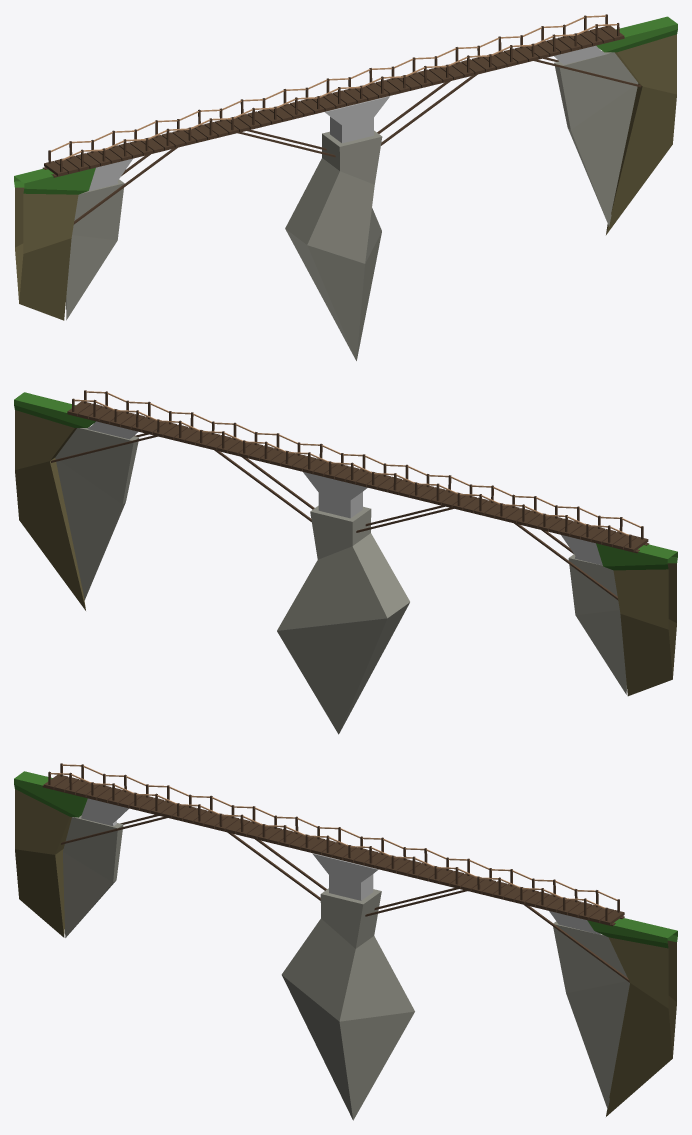
The model's file is GroundBridge.fbx.
3 renders of one model, top to bottom at view 1: azimuth 30°, elevation 25°; view 2: azimuth 150°, elevation 25°; view 3: azimuth 330°, elevation 25°, orthographic.
Parts seen in each view (by area): view 1: Boulders, Grass, Bridge; view 2: Boulders, Grass, Bridge; view 3: Boulders, Grass, Bridge.
Part boxes in pixels (bbox=[...]): Boulders: bbox=[66, 45, 638, 360]; Grass: bbox=[14, 16, 677, 320]; Bridge: bbox=[42, 14, 641, 224]; Boulders: bbox=[55, 421, 626, 734]; Grass: bbox=[14, 392, 677, 696]; Bridge: bbox=[50, 390, 649, 600]; Boulders: bbox=[63, 798, 629, 1120]; Grass: bbox=[14, 771, 677, 1116]; Bridge: bbox=[42, 763, 629, 982].
Size of the model in its own units: 44.35 by 18.31 by 3.45.
